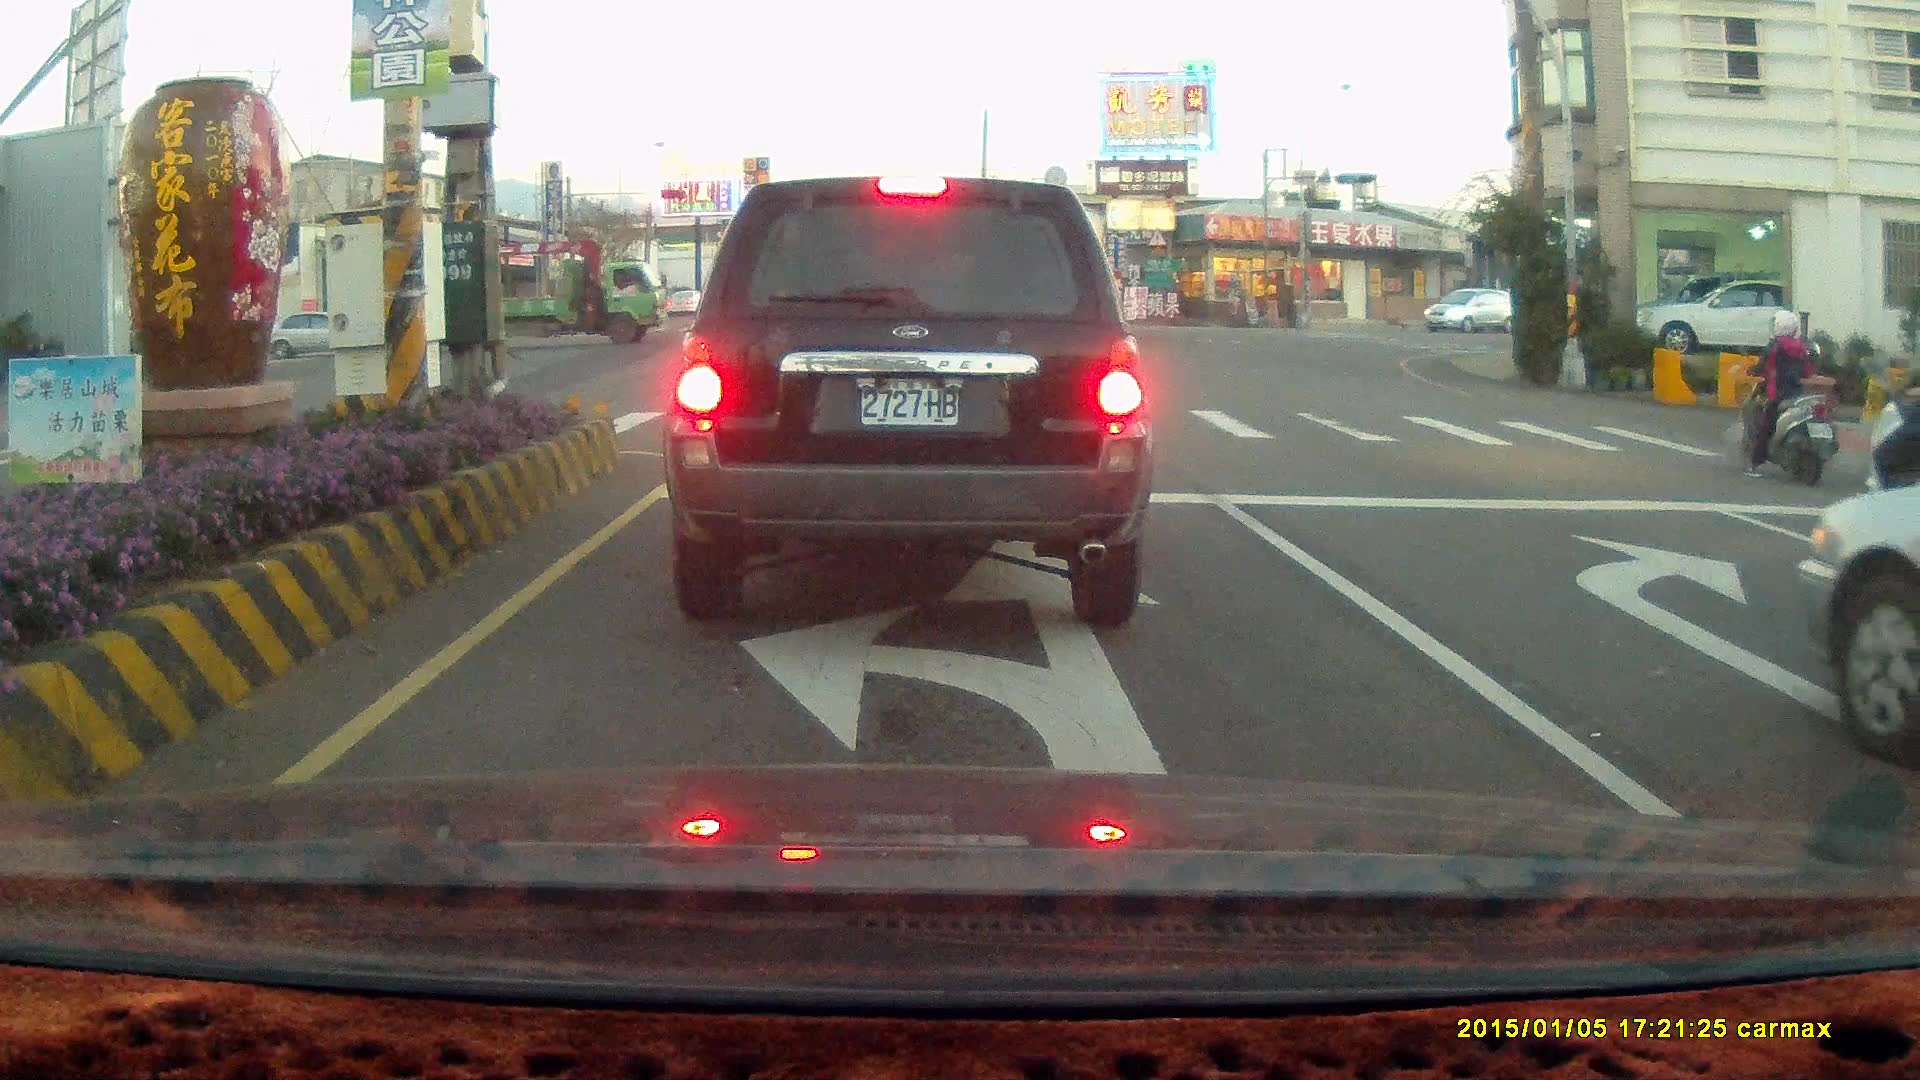rider: (1727, 305, 1835, 484), (1861, 372, 1920, 509)
vehicle: (660, 173, 1155, 630), (1798, 477, 1920, 773), (1628, 275, 1835, 355), (500, 254, 670, 347), (1642, 275, 1784, 356), (1896, 493, 1920, 836), (1422, 289, 1520, 338)
